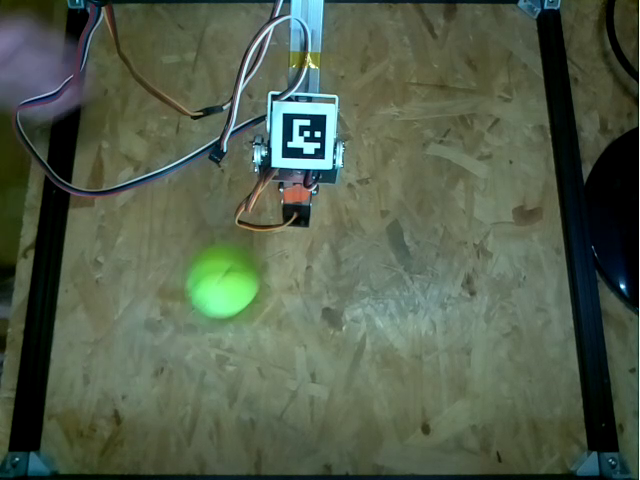tennis_ball: (186, 244, 259, 318)
